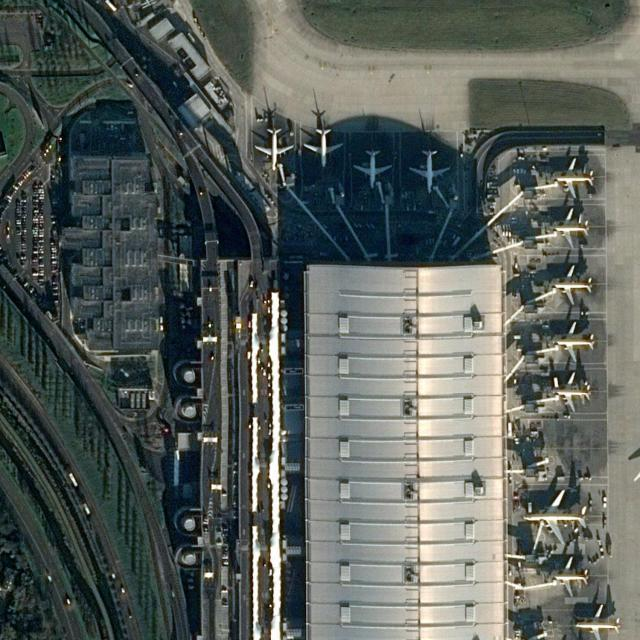Aircraft: (523, 490, 588, 545), (409, 147, 450, 193), (254, 126, 294, 171), (352, 148, 393, 190), (550, 207, 590, 249), (553, 264, 593, 306), (554, 322, 594, 364), (574, 603, 619, 640), (303, 127, 344, 167), (555, 157, 594, 199), (552, 372, 591, 412), (550, 556, 588, 597)
